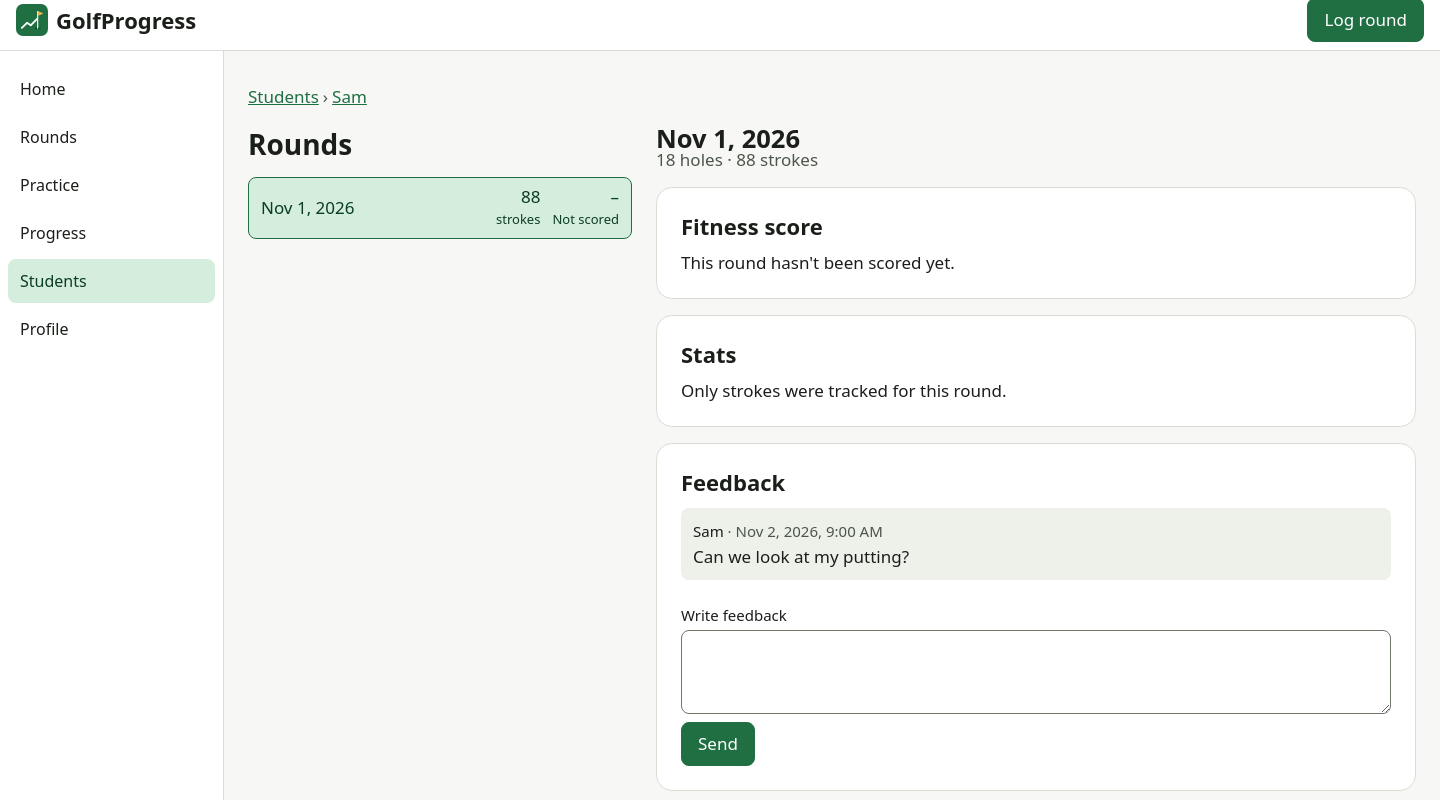
a coach's feedback on a student's round (#214) › writes feedback, shows the student's reply, and marks it read
This screenshot has width=1440, height=800.
expect the text "Can we look at my putting?" is shown: met, box [693,545,909,568]
expect the text "Sam" is shown: met, box [693,521,724,541]
Type "  Lag putts to a metre.  " into the text box labelled "Write feedback" at (1036, 672), box [681,630,1391,714]
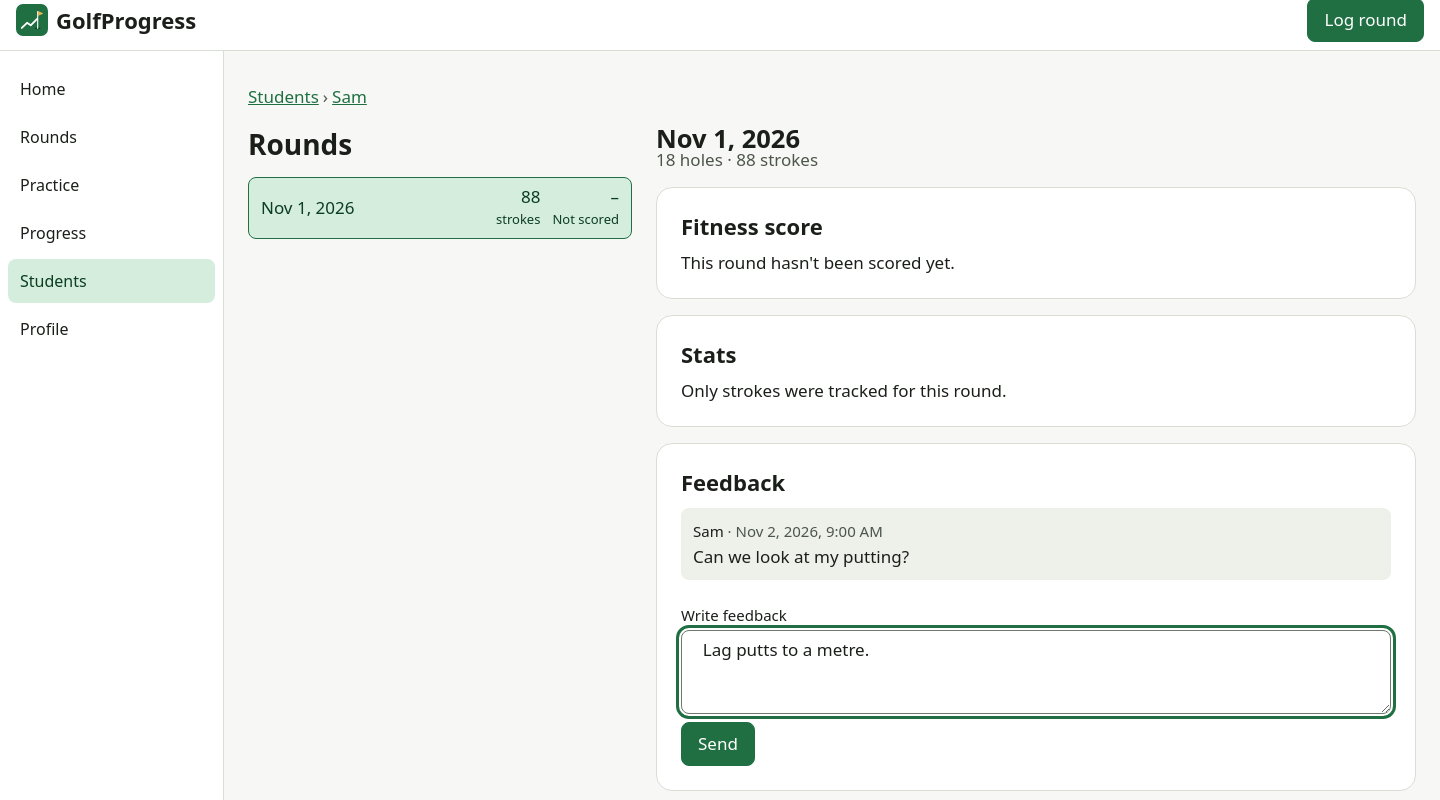
Click the button "Send" at (718, 744), box [681,722,755,766]
(page scrolled)
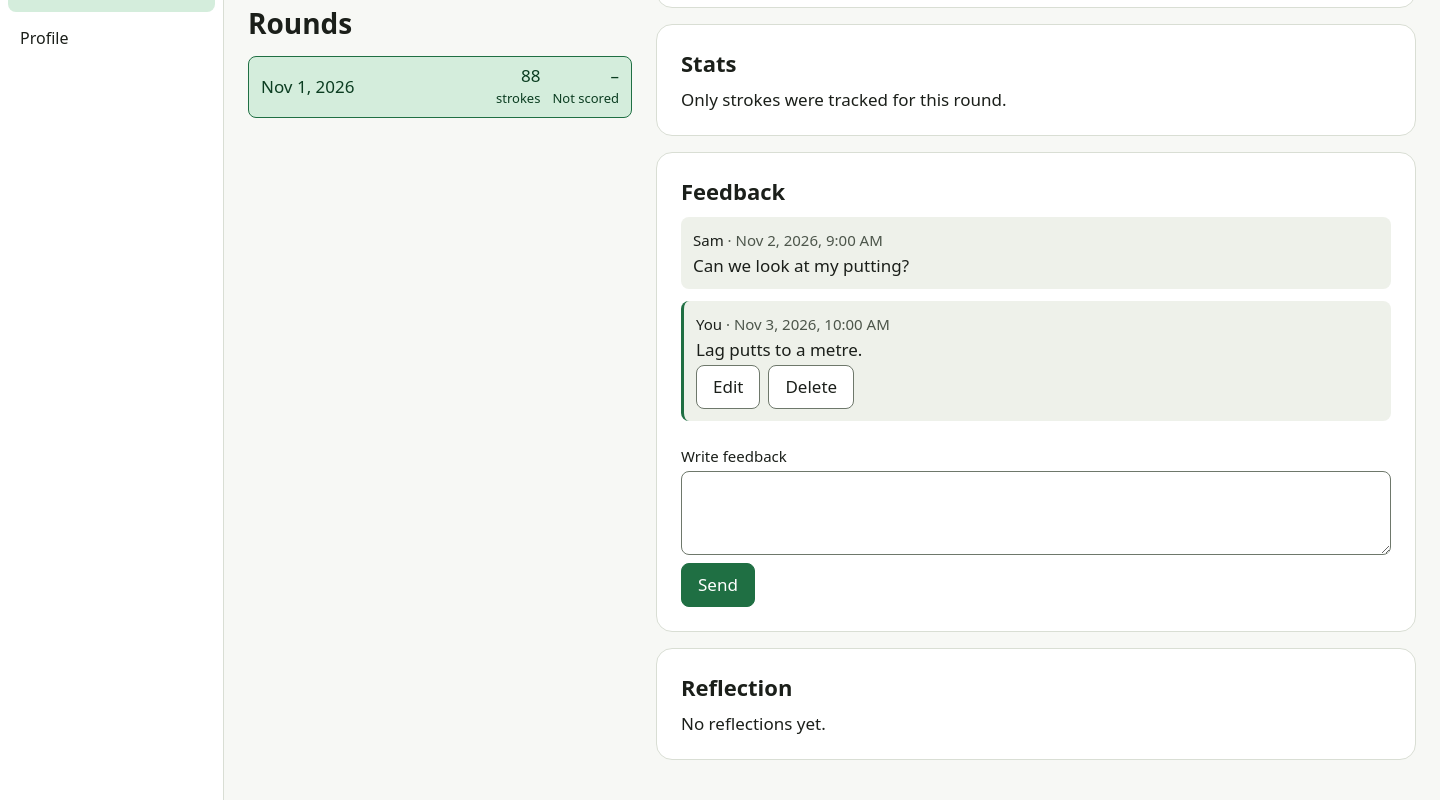
expect the text "Lag putts to a metre." is shown: met, box [696,338,862,361]
expect the text "You" is shown: met, box [696,314,722,334]
expect the text box labelled "Write feedback" is empty: met, box [681,471,1391,555]
